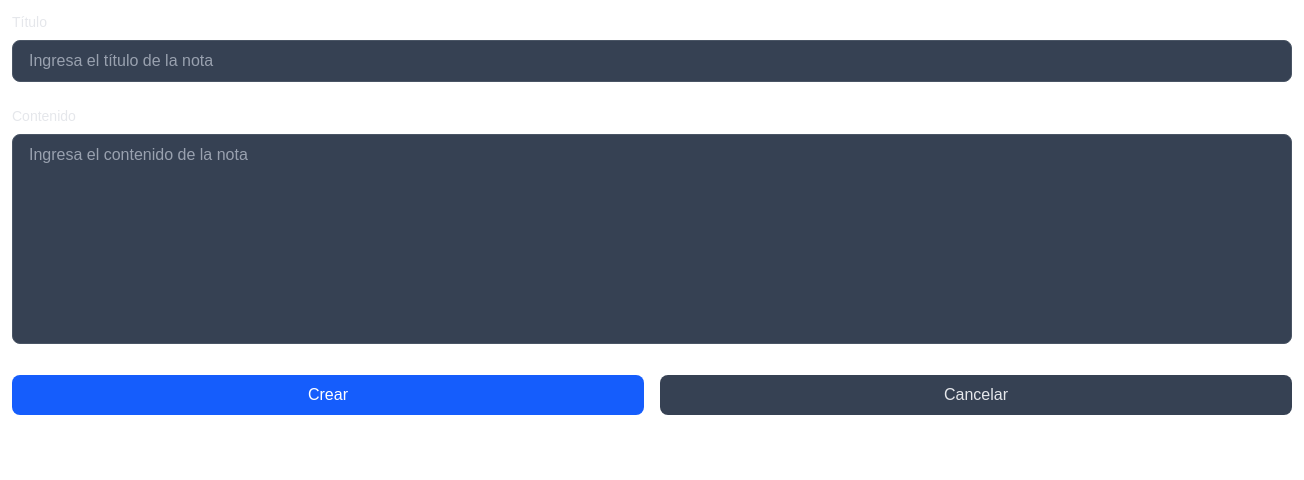
Scenario: NoteForm › muestra errores de validación para campos vacíos
Click the button "Crear".
click(328, 395)  # box 12,375 -> 644,415
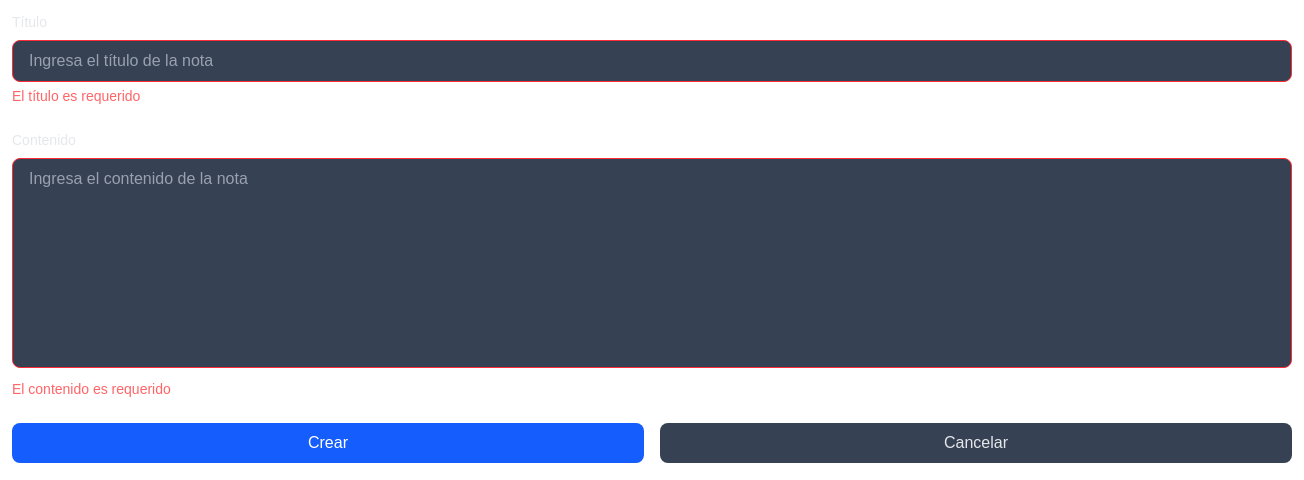
Expected: the text "El título es requerido" is shown, 12,88 -> 140,104
Expected: the text "El contenido es requerido" is shown, 12,381 -> 171,397
